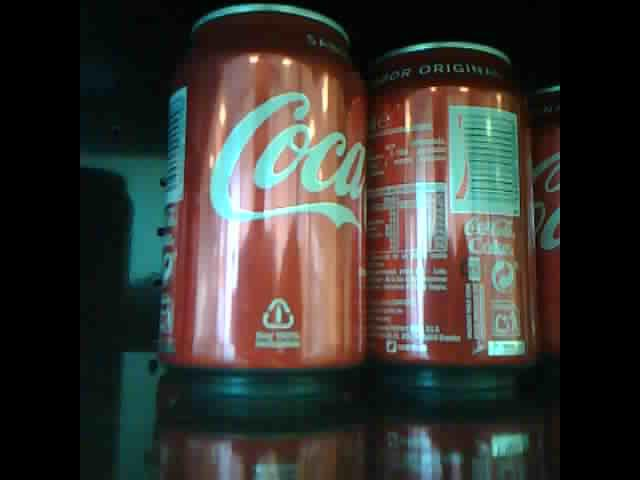coca cola: (156, 4, 370, 386), (365, 48, 535, 387), (523, 78, 560, 371)
